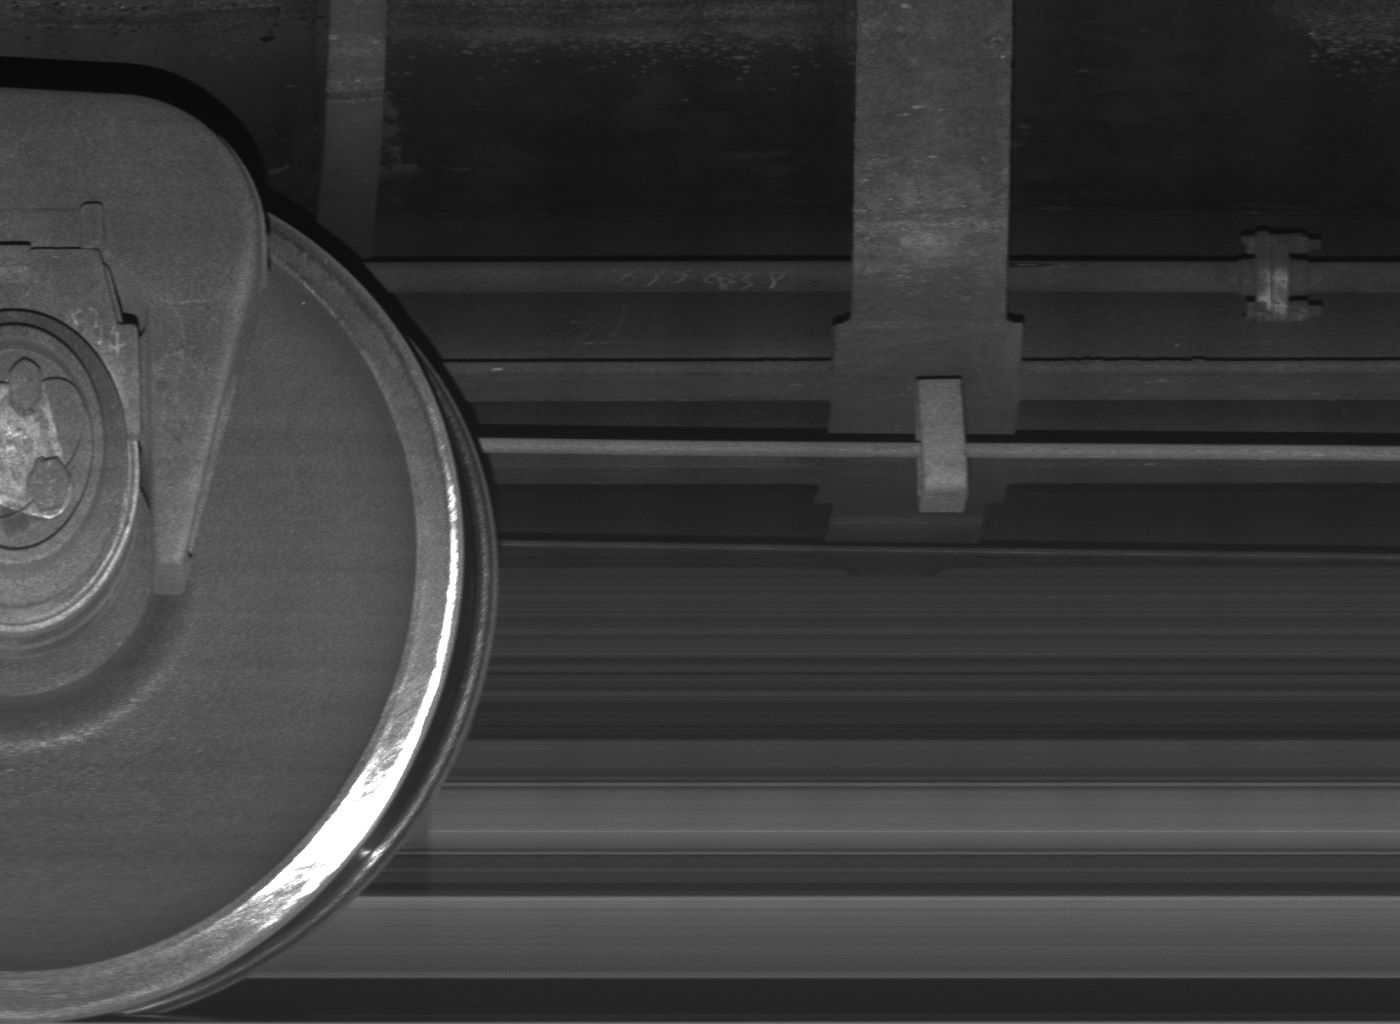normal: (915, 375, 973, 513)
